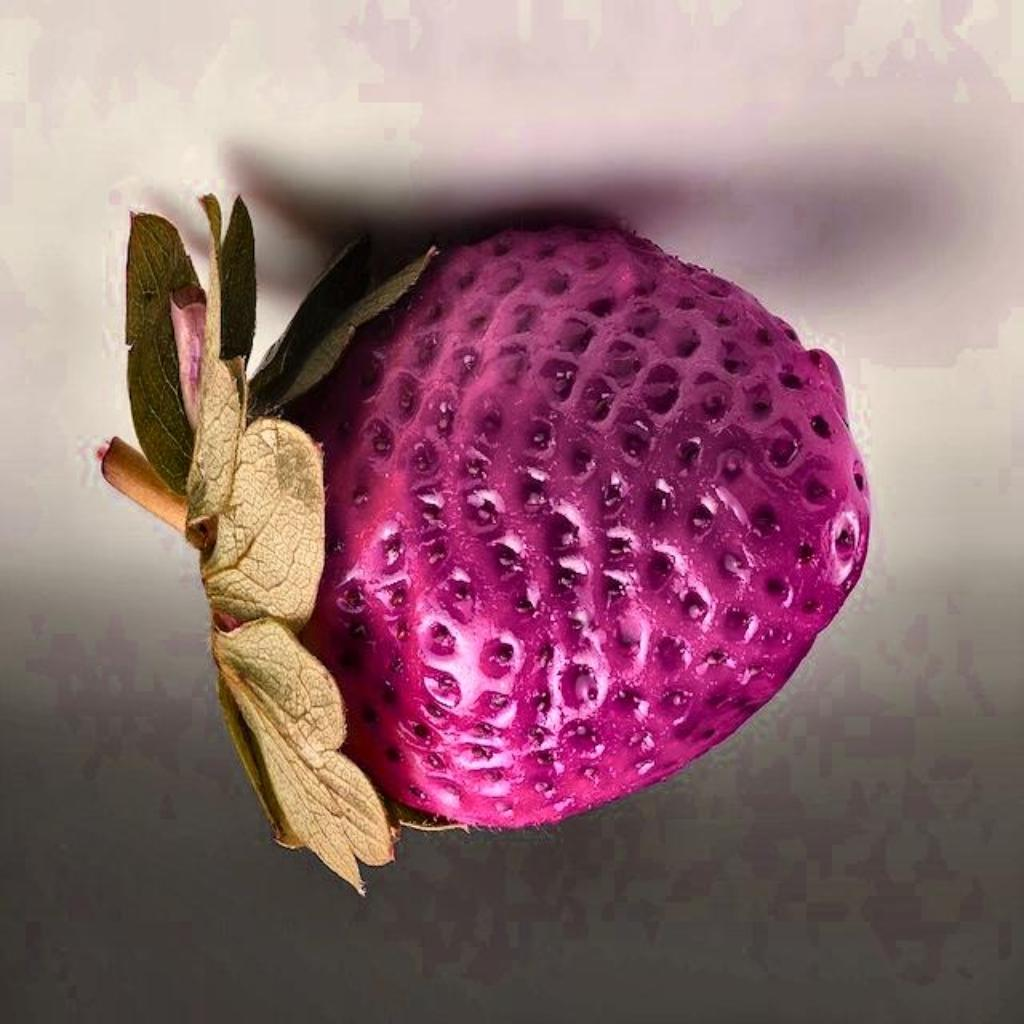strawberry: (100, 197, 870, 889)
